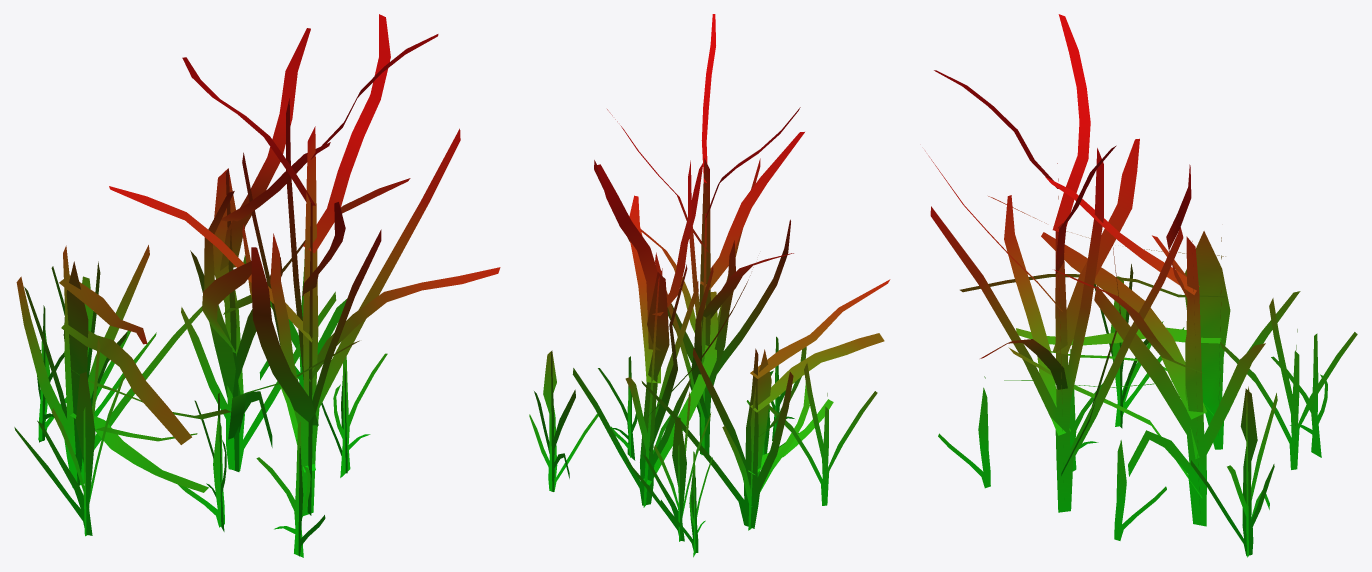
Rendered from Var5_LOD0.fbx.
3 renders of one model, left to right at view 1: azimuth 30°, elevation 25°; view 2: azimuth 150°, elevation 25°; view 3: azimuth 270°, elevation 25°, orthographic. The views are drawn at different scales.
Parts seen in each view (by area): view 1: _1wnb_Var5_LOD0; view 2: _1wnb_Var5_LOD0; view 3: _1wnb_Var5_LOD0.
Part boxes in pixels (left/top/right/bottom): _1wnb_Var5_LOD0: left=14, top=14, right=500, bottom=557; _1wnb_Var5_LOD0: left=529, top=14, right=890, bottom=557; _1wnb_Var5_LOD0: left=925, top=14, right=1357, bottom=557.
Bounding box in the file's own units: 17.87 × 23.13 × 19.07.
